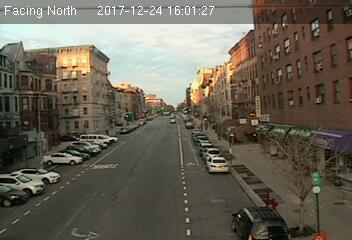car: (229, 205, 290, 240), (205, 157, 230, 174)
